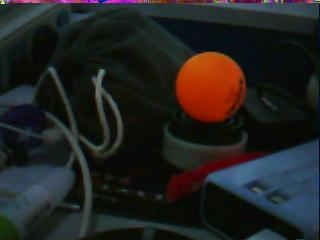oball: (175, 51, 245, 124)
